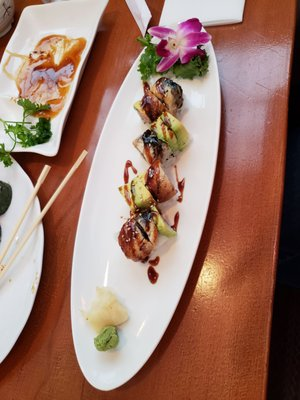sushi: (0, 0, 110, 162)
